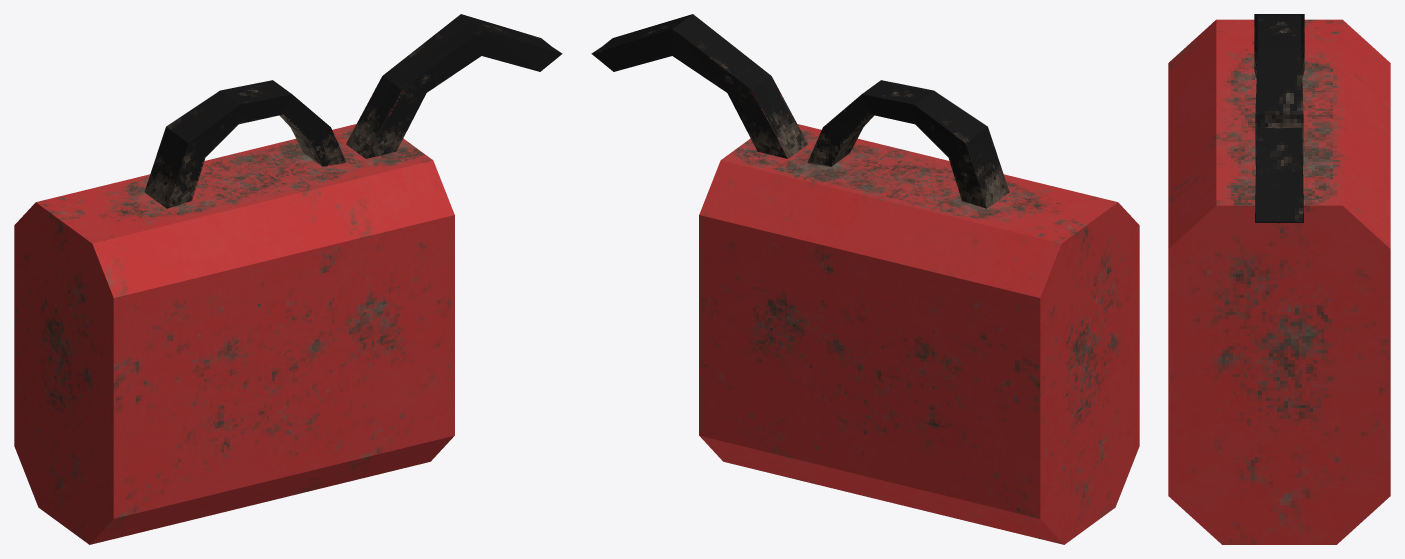
Rendered from Canister.glb.
3 views of the same model, side by side, from view 1: azimuth 30°, elevation 25°; view 2: azimuth 150°, elevation 25°; view 3: azimuth 270°, elevation 25° (orthographic). The views are drawn at different scales.
Parts seen in each view (by area): view 1: Cube; view 2: Cube; view 3: Cube.
Boxes of the visible parts, <box> form: Cube: <box>14,14,562,544</box>; Cube: <box>591,14,1139,544</box>; Cube: <box>1168,14,1390,544</box>.
Size of the model in its own units: 0.6661 by 0.5289 by 0.2352.
Materials: 1 (1 with a texture image).
